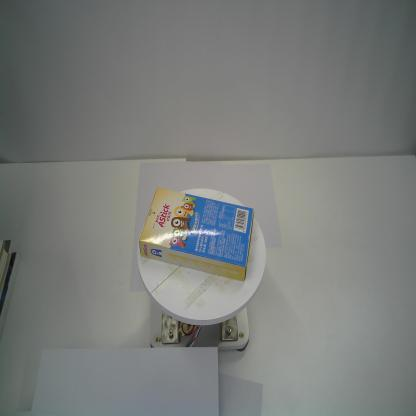Dessert: (140, 188, 254, 282)
